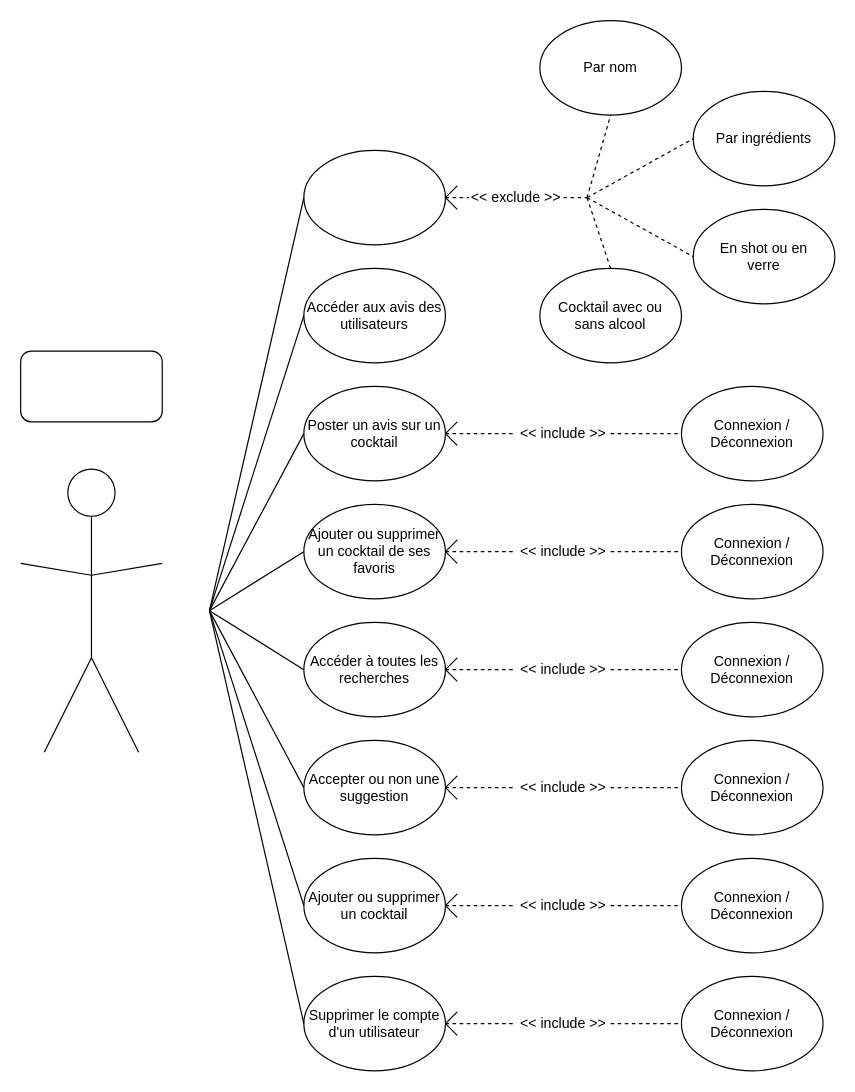
This 855x1092 diagram has some shape labels left out. Each missing label, with the centre of its shape:
Administrateur: [90,386]
Rechercher un cocktail: [374,197]
